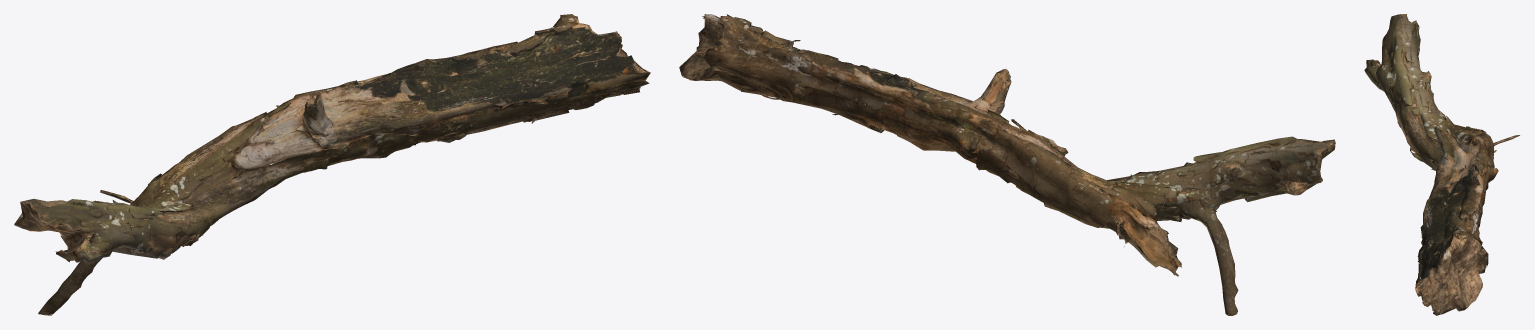
File: tronco_grosso.glb
3 renders of one model, left to right at view 1: azimuth 30°, elevation 25°; view 2: azimuth 150°, elevation 25°; view 3: azimuth 270°, elevation 25°, orthographic. The views are drawn at different scales.
Visible parts, largest first — view 1: tronco_grosso; view 2: tronco_grosso; view 3: tronco_grosso.
Part boxes in pixels (bbox=[...]): tronco_grosso: bbox=[14, 14, 650, 315]; tronco_grosso: bbox=[679, 14, 1335, 315]; tronco_grosso: bbox=[1364, 14, 1519, 315].
Bounding box in the file's own units: 4.05 × 1.06 × 1.05.
Materials: 1 (1 with a texture image).
